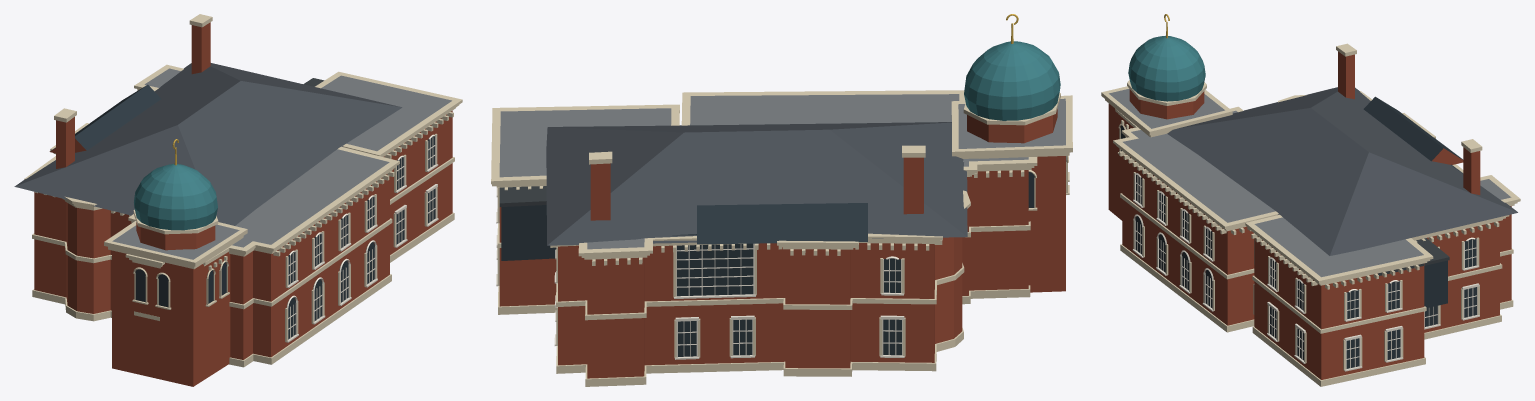
The model's file is leighton_house.glb.
3 views of the same model, side by side, from view 1: azimuth 30°, elevation 25°; view 2: azimuth 150°, elevation 25°; view 3: azimuth 270°, elevation 25° (orthographic). The views are drawn at different scales.
Size of the model in its own units: 34.15 by 17.61 by 31.4.
